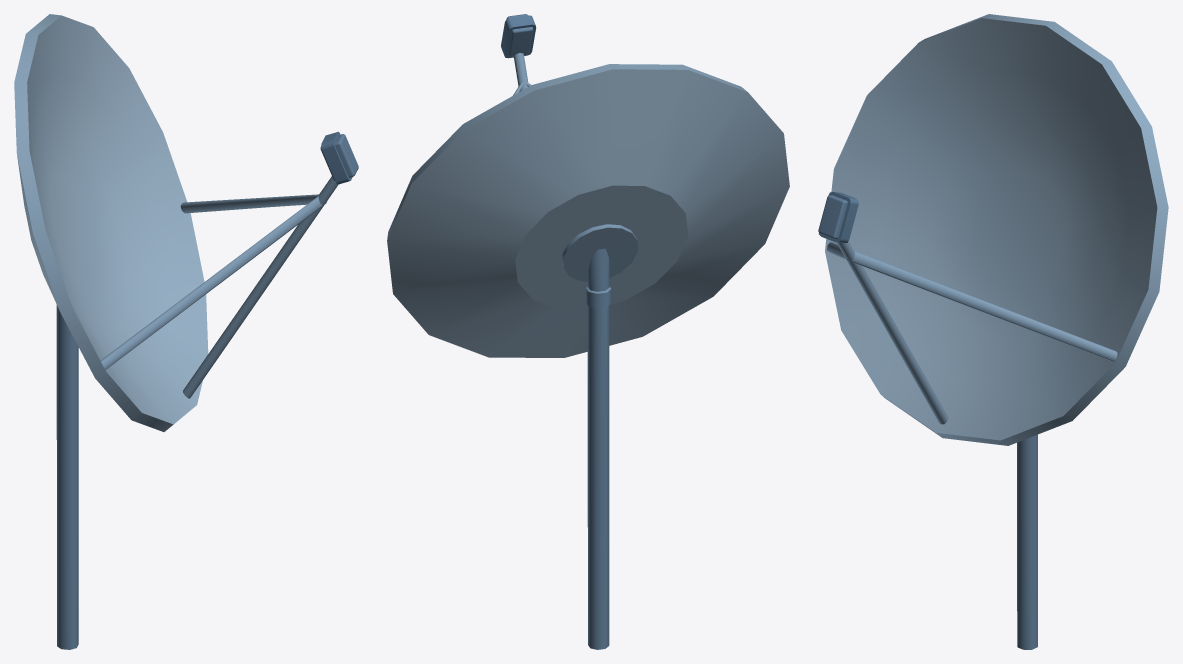
File: radar.fbx
3 views of the same model, side by side, from view 1: azimuth 30°, elevation 25°; view 2: azimuth 150°, elevation 25°; view 3: azimuth 270°, elevation 25° (orthographic). The views are drawn at different scales.
Visible parts, largest first — view 1: radar; view 2: radar; view 3: radar.
Part boxes in pixels (x1,y1,x2,y2): radar: (14, 14, 358, 649); radar: (387, 14, 789, 649); radar: (818, 14, 1168, 649).
Bounding box in the file's own units: 132 × 250 × 130.
